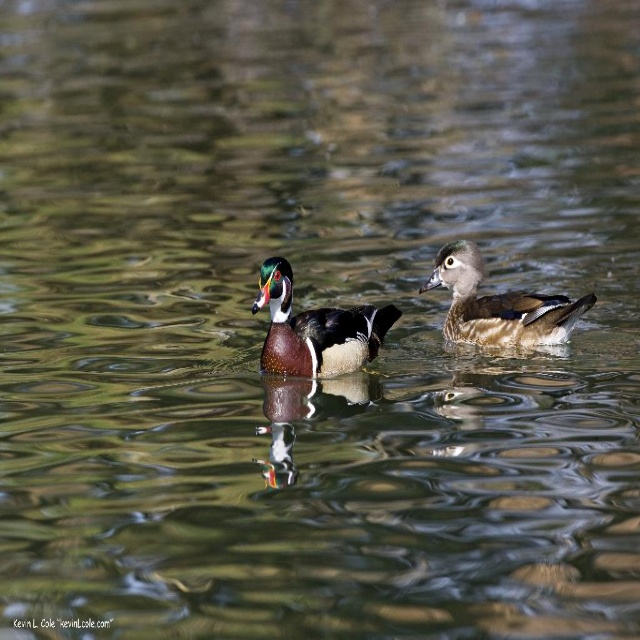Duck: (416, 237, 593, 366), (251, 256, 417, 365)
